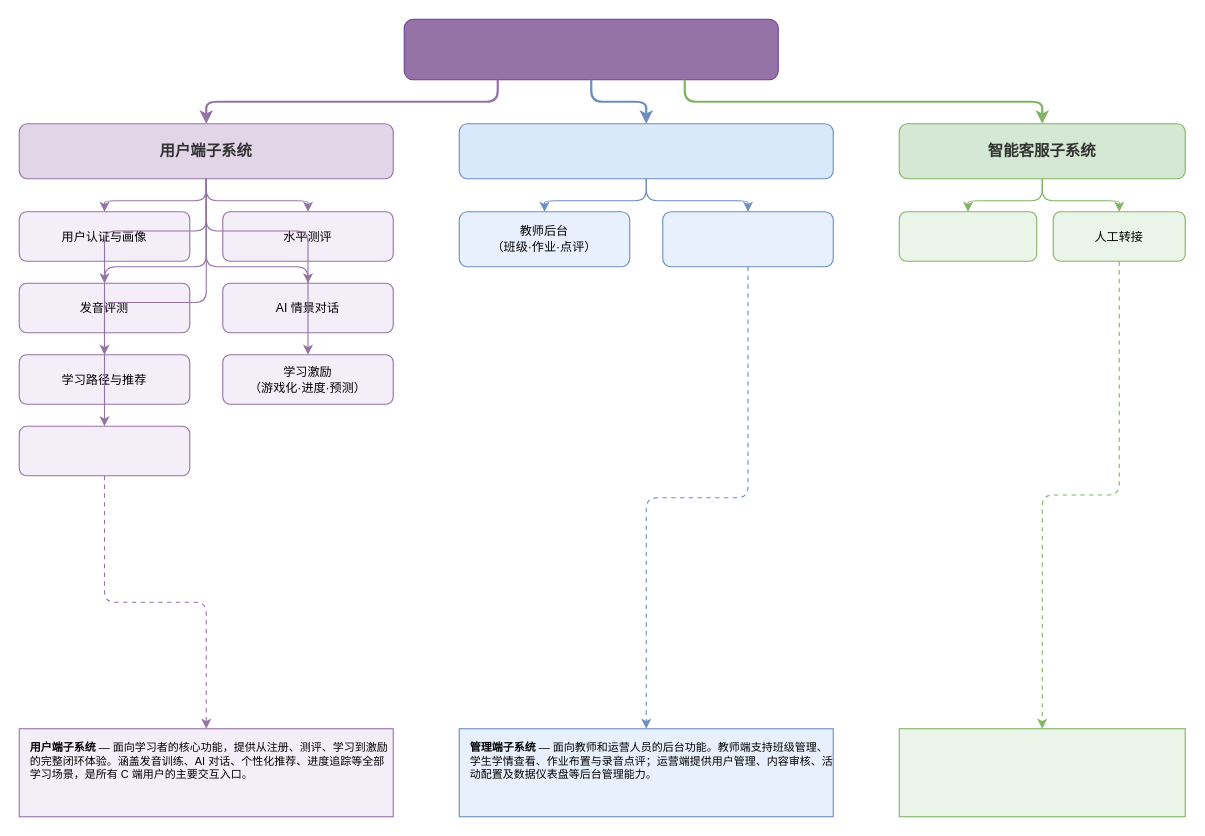
Some shapes in this 1205 by 836 pixel diagram are drawn without their labels. Each missing label, with the centre of its shape:
"FAQ 自动应答" belongs at (967,236).
"Lingolab-ai 英语口语训练系统" belongs at (590,49).
"智能客服子系统 — 基于 AI 的自动答疑系统，支持语音和文字双模态交互。覆盖常见问题自动应答，复杂问题自动分类并转接人工处理，降低运营人力成本。" belongs at (1041,772).
"社区互动" belongs at (104,450).
"管理端子系统" belongs at (645,151).
"运营后台 （用户·内容·数据）" belongs at (747,239).
